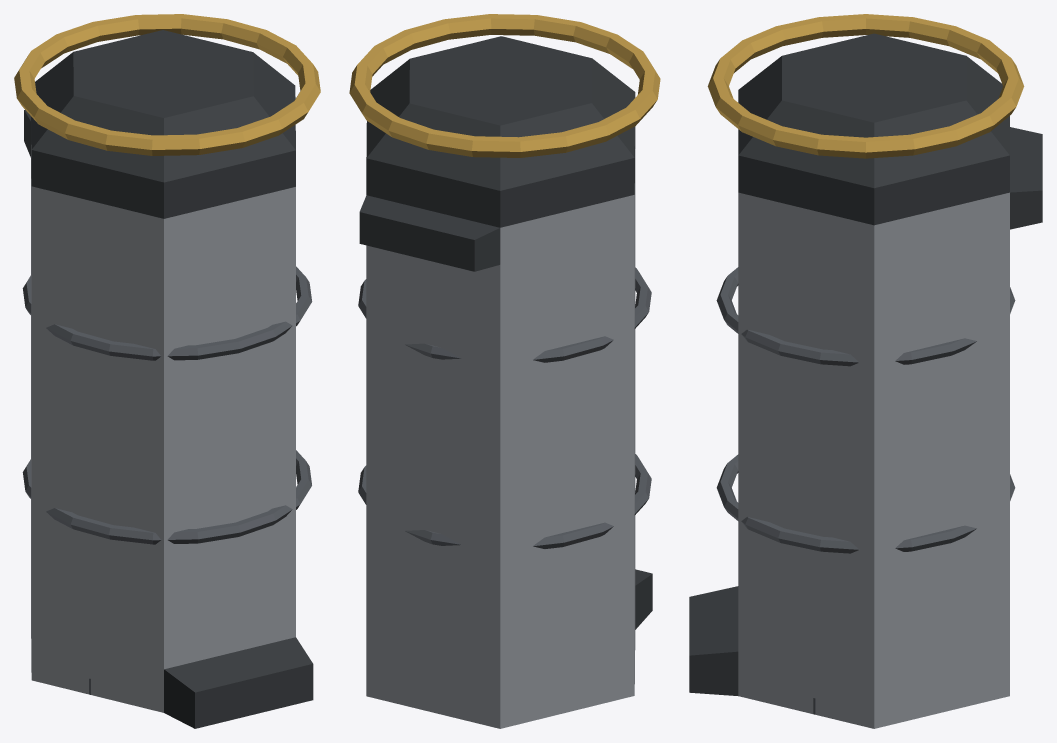
Rendered from trashcan.glb.
3 views of the same model, side by side, from view 1: azimuth 30°, elevation 25°; view 2: azimuth 150°, elevation 25°; view 3: azimuth 270°, elevation 25° (orthographic).
Visible parts, largest first — view 1: trashcan(Clone); view 2: trashcan(Clone); view 3: trashcan(Clone).
Boxes of the visible parts, x1,y1,x2,y2 form: trashcan(Clone): (14,14,320,728); trashcan(Clone): (349,14,660,728); trashcan(Clone): (689,14,1042,728).
Bounding box in the file's own units: 0.2077 × 0.4279 × 0.2341.
